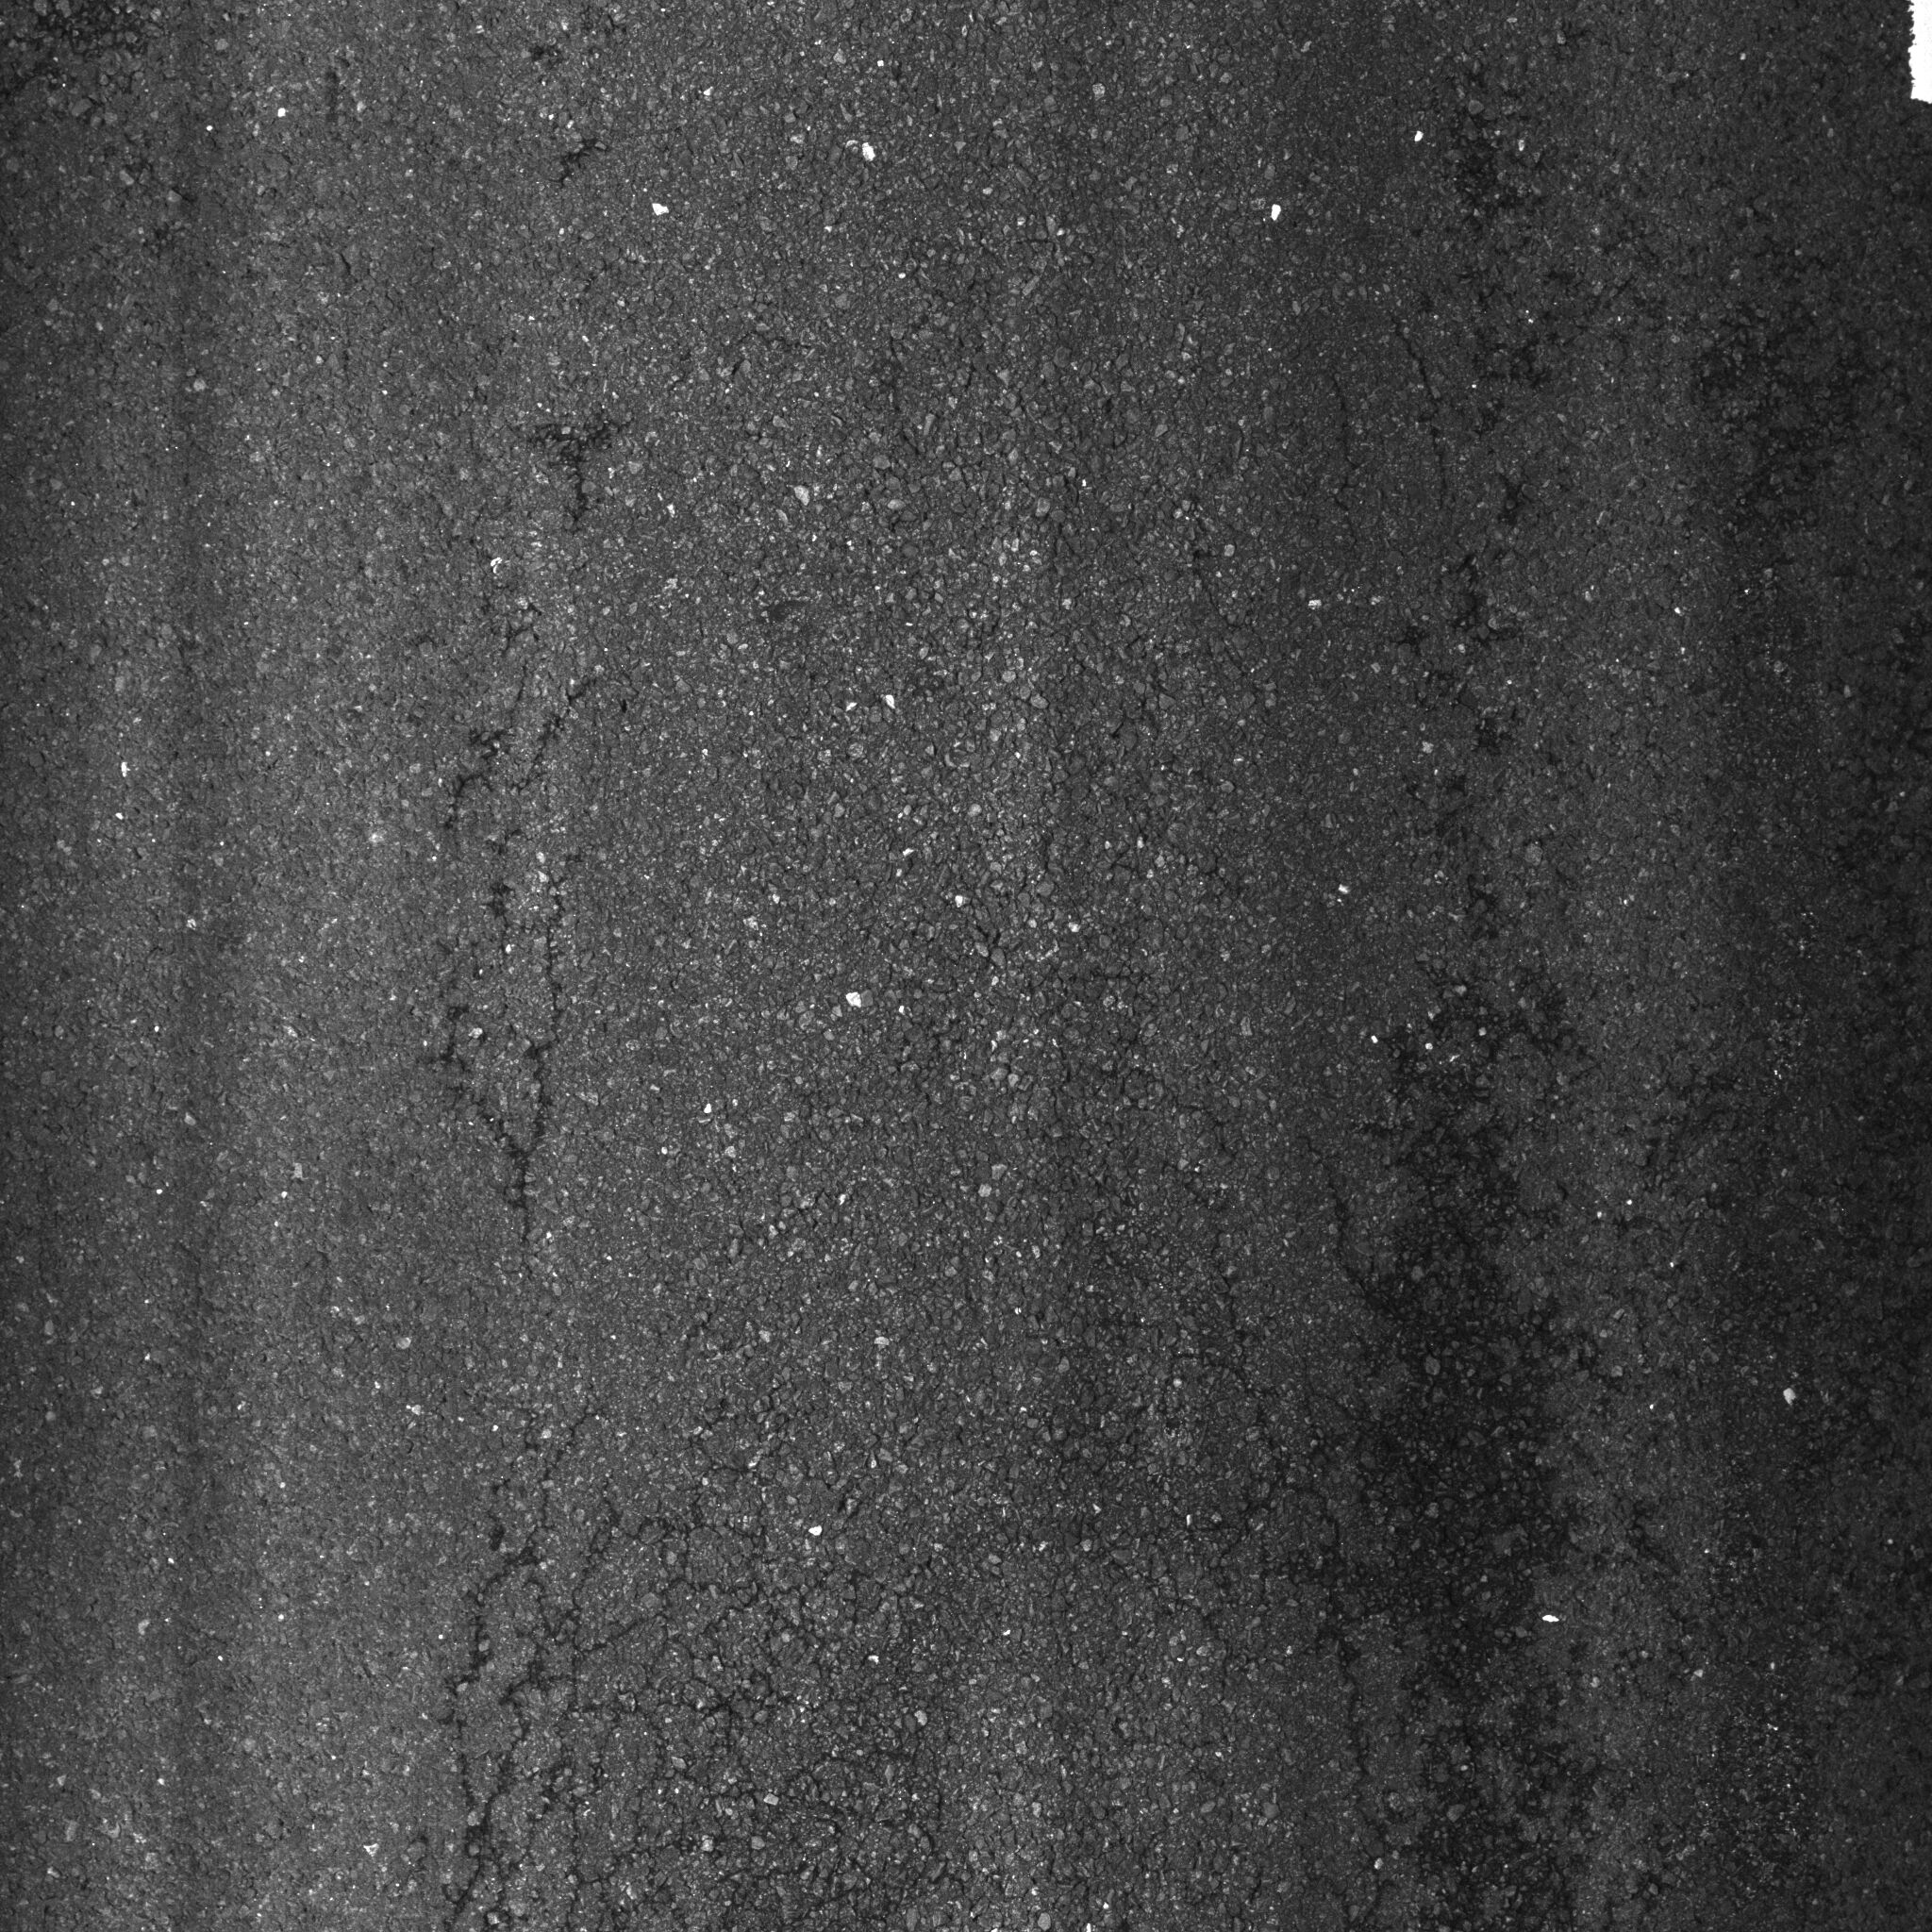alligator: (1194, 295, 1759, 1932), (403, 1355, 1056, 1932)
